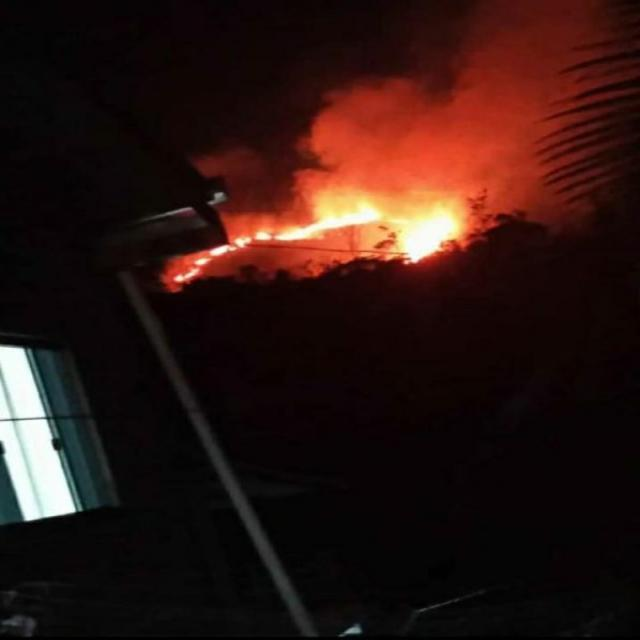Fire: (166, 185, 459, 285), (277, 190, 387, 248), (396, 191, 481, 262), (170, 243, 230, 283), (249, 230, 273, 242), (230, 238, 247, 249)
Smoke: (278, 11, 620, 168)
